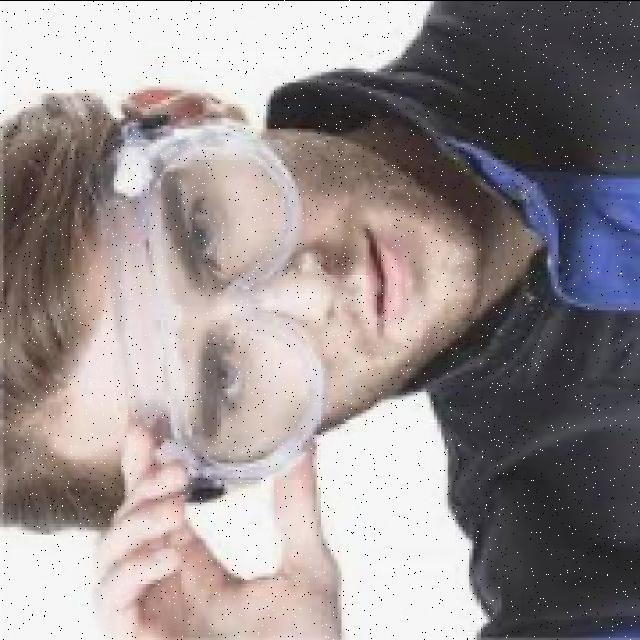Goggles: (97, 106, 339, 517)
